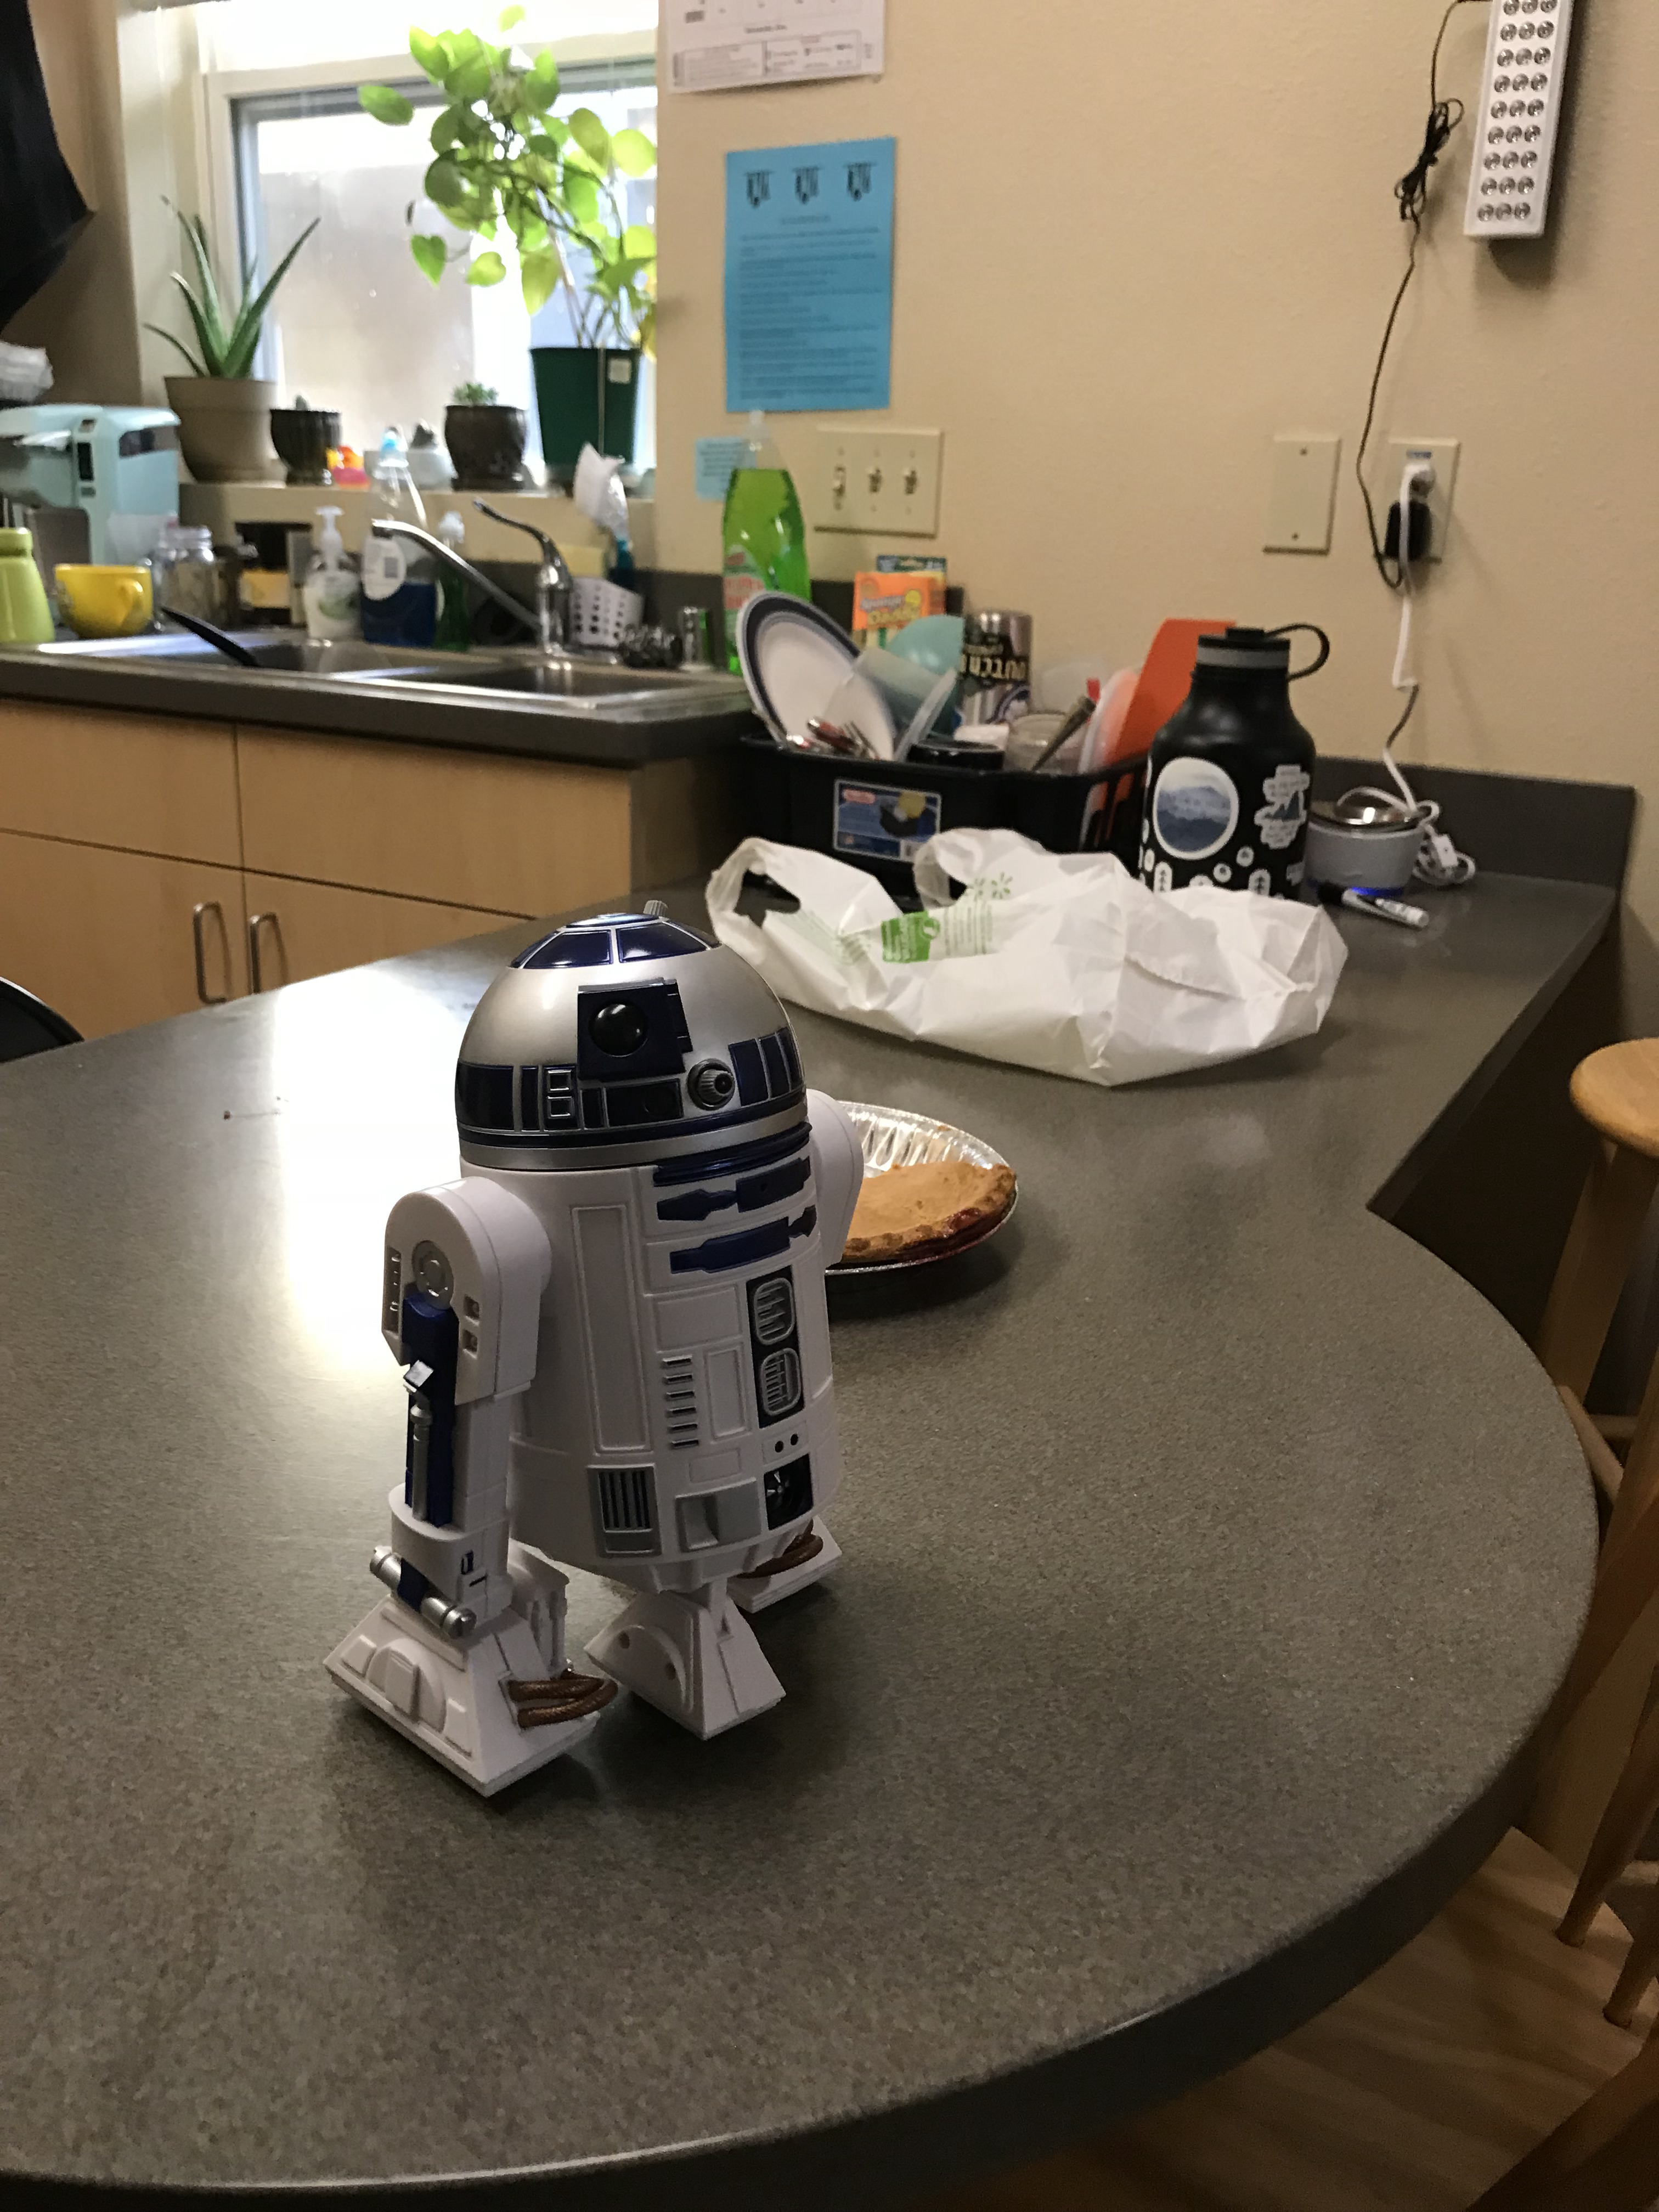r2d2: (322, 895, 861, 1801)
